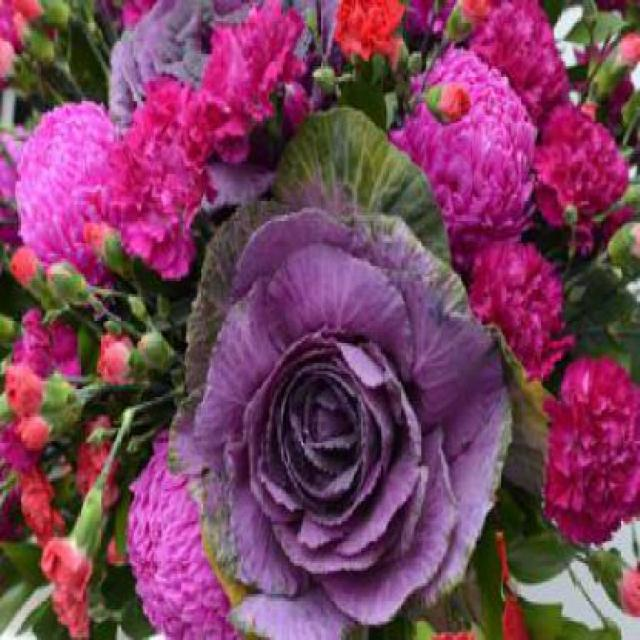Flower: (195, 207, 506, 638)
